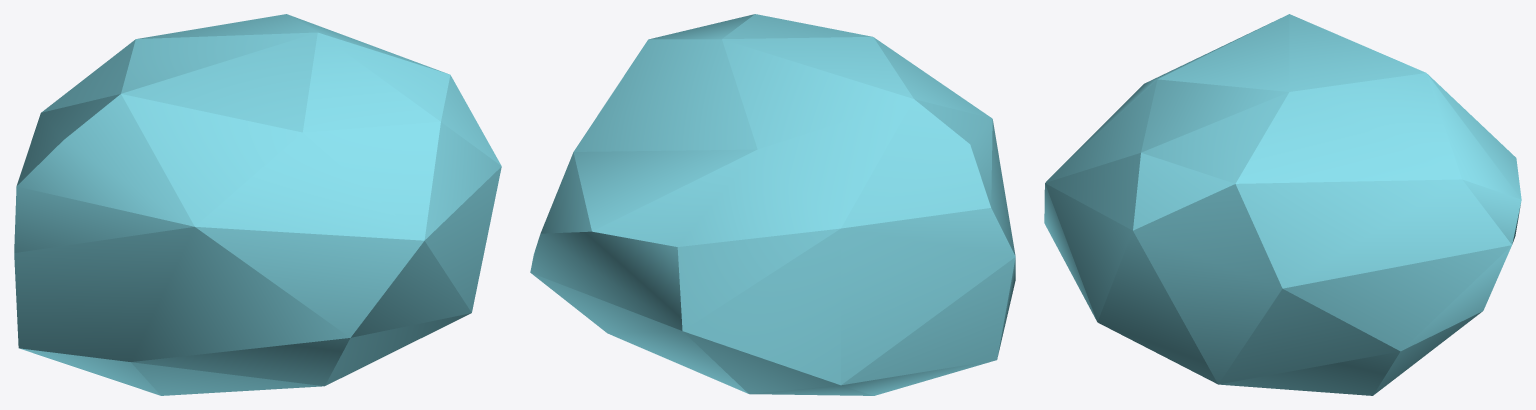
The model's file is PROP_Ice_Rock01.FBX.
The picture shows the model from 3 angles, left to right: view 1: azimuth 30°, elevation 25°; view 2: azimuth 150°, elevation 25°; view 3: azimuth 270°, elevation 25°; orthographic projection. The views are drawn at different scales.
Parts seen in each view (by area): view 1: PROP_Ice_Rock01; view 2: PROP_Ice_Rock01; view 3: PROP_Ice_Rock01.
Boxes of the visible parts, x1=… form: PROP_Ice_Rock01: x1=14, y1=14, x2=501, y2=395; PROP_Ice_Rock01: x1=530, y1=14, x2=1015, y2=395; PROP_Ice_Rock01: x1=1044, y1=14, x2=1521, y2=395.
Size of the model in its own units: 40.4 by 27.55 by 39.93.
1 material, 1 textured.
